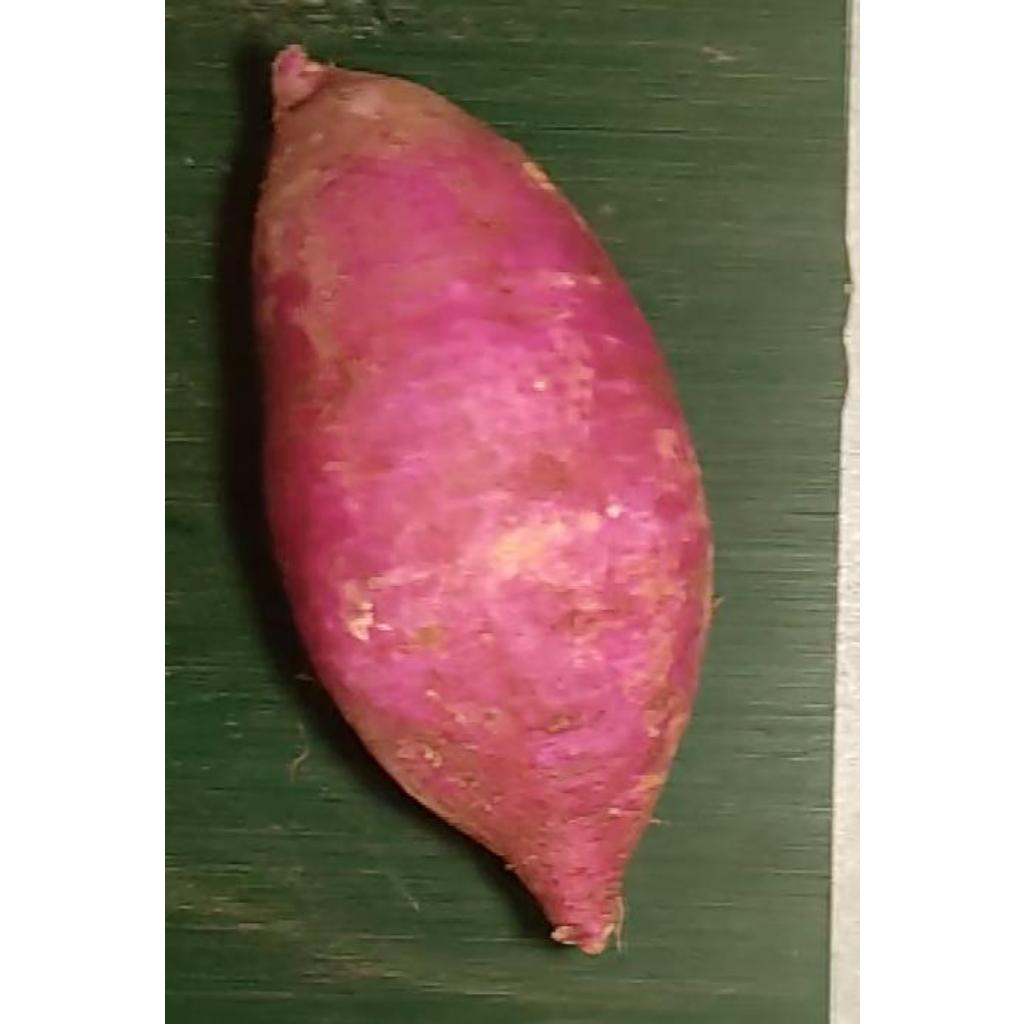Sweet Potato: (248, 44, 714, 959)
